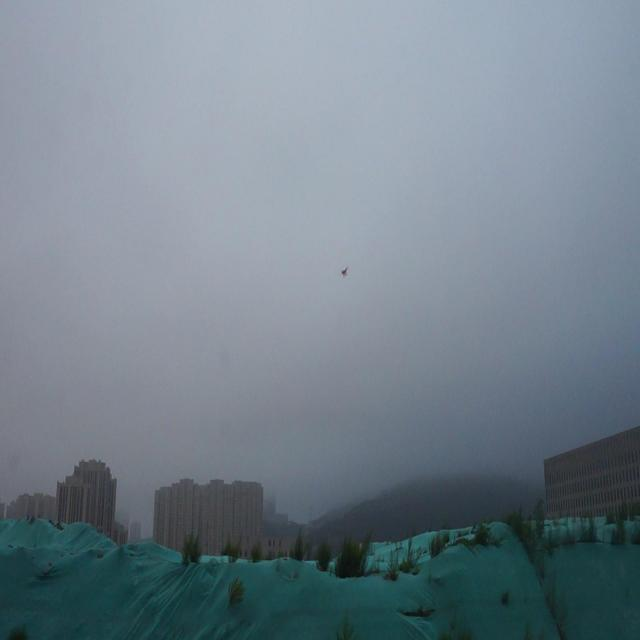UAV: (339, 265, 348, 278)
